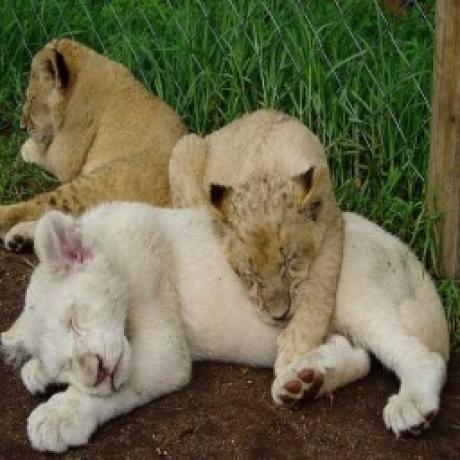Lion: (0, 206, 455, 456), (168, 108, 347, 375), (0, 30, 183, 221)
